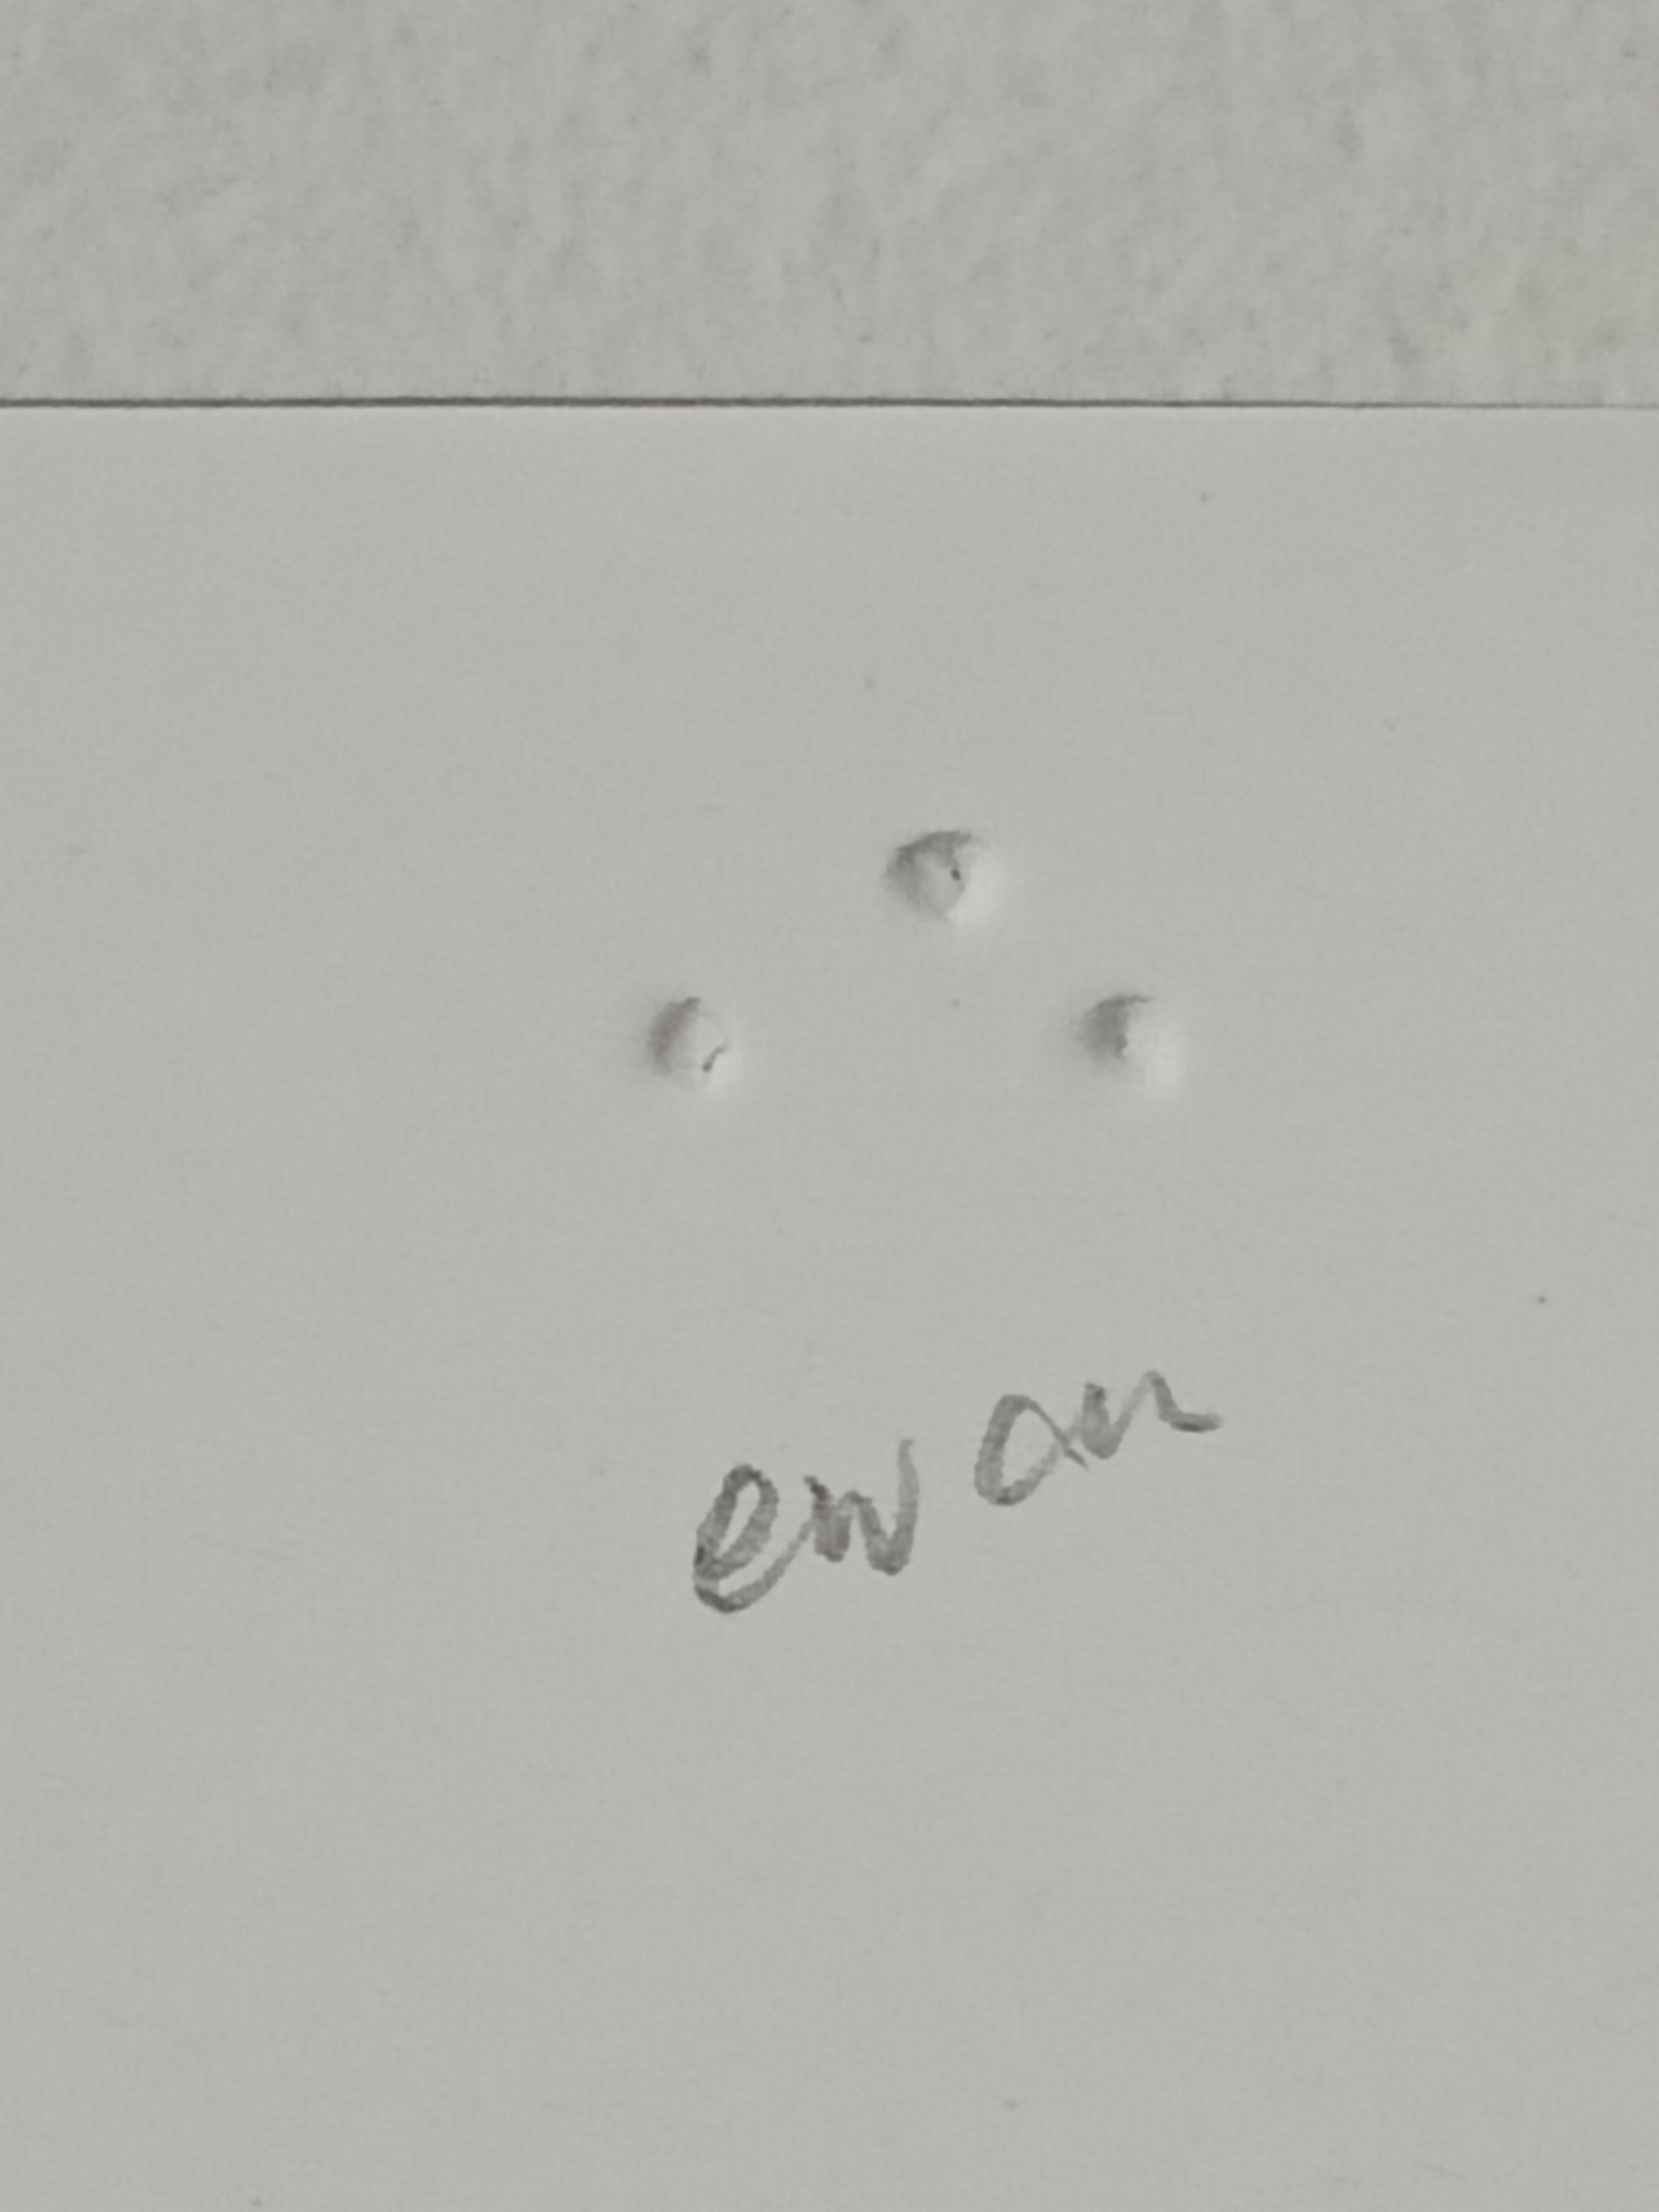dot_5: (448, 805, 744, 1264)
two_cell_alphabet_ewan: (885, 813, 1182, 1273)
